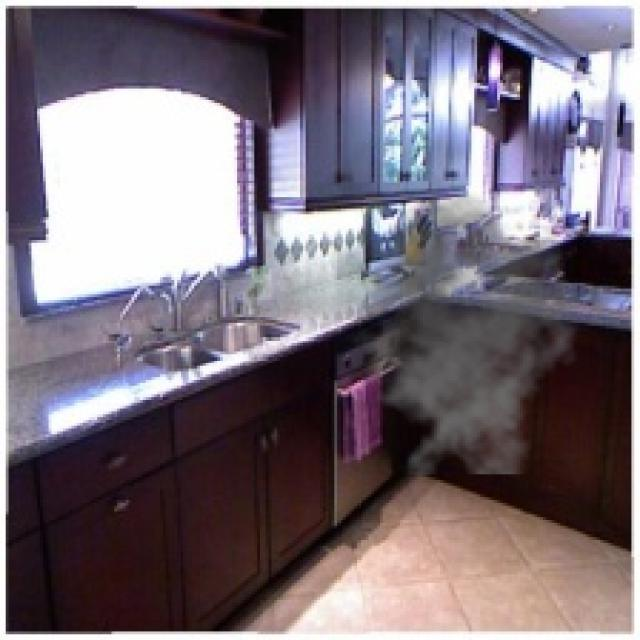Smoke: (337, 192, 589, 474)
